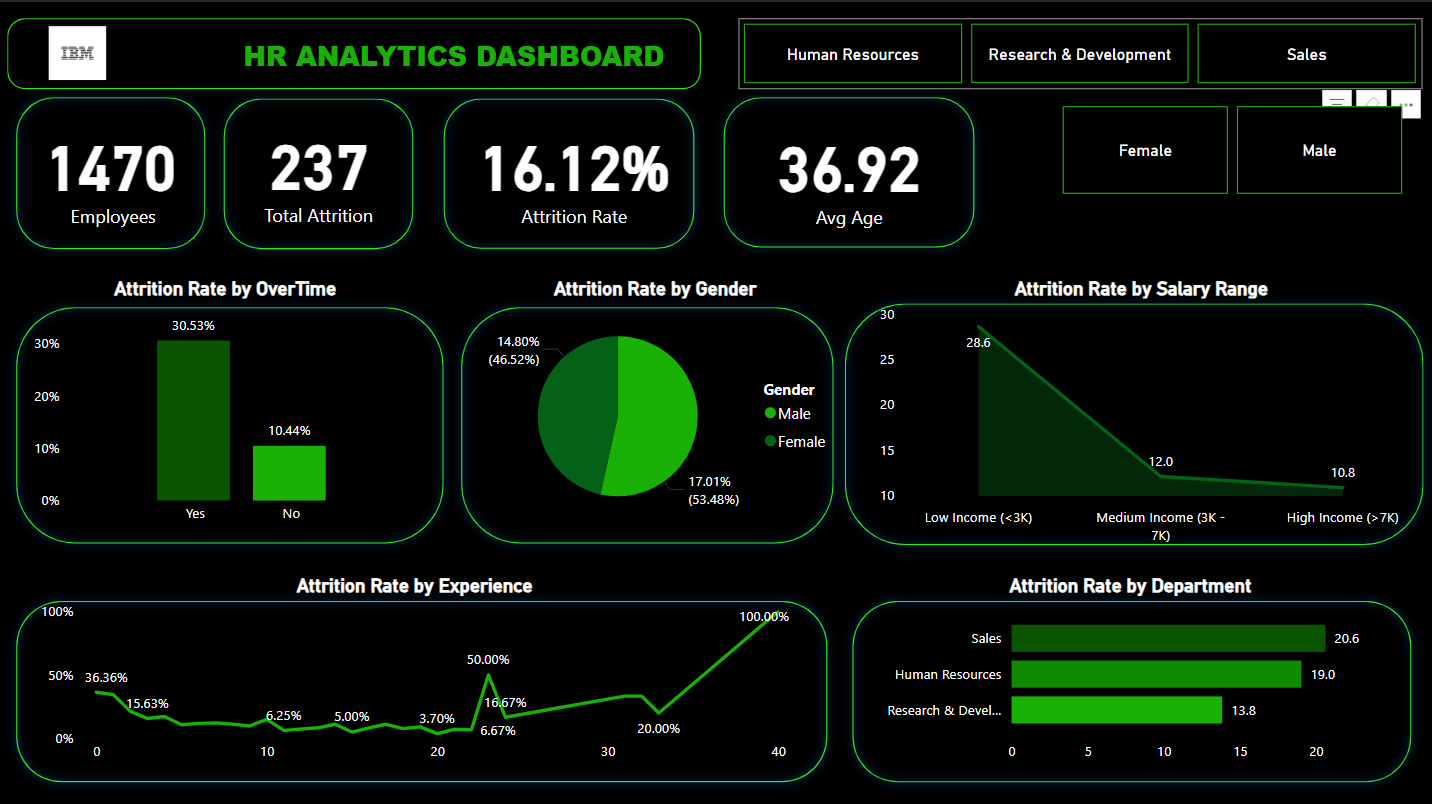

The dashboard page shown, as its layout file describes it:
{"tool":"powerbi","page":{"name":"Attrition Dashboard","canvas":[1280,720],"ordinal":0},"visuals":[{"type":"shape","box":[10.1,14.4,620.4,63.5],"z":0},{"type":"card","fields":{"Values":["hrcleaned.Total Employees"]},"box":[34.6,98.1,135.6,108.2],"z":1000},{"type":"shape","box":[10.1,76.5,184.7,151.5],"z":2000},{"type":"shape","box":[194.8,77.9,184.7,150],"z":3000},{"type":"shape","box":[391,77.9,239.5,150],"z":4000},{"type":"card","fields":{"Values":["hrcleaned.Total Attrition"]},"box":[222.2,89.5,129.8,124.1],"z":5000},{"type":"card","fields":{"Values":["hrcleaned.Attrition Rate"]},"box":[419.8,96.7,190.4,111.1],"z":6000},{"type":"barChart","title":" Attrition Rate by Department","fields":{"Category":["attrition_by_department.Department"],"Y":["Sum(attrition_by_department.Attrition_Rate)"]},"box":[773.3,509.3,473.2,176],"z":6001},{"type":"areaChart","title":" Attrition Rate by Salary Range","fields":{"Y":["Sum(attirition_by_salary.Attrition_Rate)"],"Category":["attirition_by_salary.Salary_Range"]},"box":[760.3,245.3,519.4,245.3],"z":6002},{"type":"lineChart","title":"Attrition Rate by Experience ","fields":{"Category":["hrcleaned.YearsAtCompany"],"Y":["hrcleaned.Attrition Rate"]},"box":[34.6,509.3,676.7,176],"z":6003},{"type":"pieChart","fields":{"Category":["hrcleaned.Gender"],"Y":["hrcleaned.Attrition Rate"]},"box":[419.8,245.3,334.7,229.4],"z":6004},{"type":"columnChart","fields":{"Category":["hrcleaned.OverTime"],"Y":["hrcleaned.Attrition Rate"]},"box":[28.9,245.3,350.6,229.4],"z":6005},{"type":"shape","box":[10.1,264,396.8,226.5],"z":6006},{"type":"shape","box":[406.9,264,347.7,226.5],"z":6007},{"type":"shape","box":[748,260,530.9,231],"z":6008},{"type":"shape","box":[10.1,525.2,738.7,177.5],"z":6009},{"type":"shape","box":[754.6,525.2,513.6,177.5],"z":6010},{"type":"card","fields":{"Values":["hrcleaned.Avg Age"]},"box":[683.9,88,152.9,129.8],"z":6011},{"type":"shape","box":[640.6,76.5,239.5,150],"z":6012},{"type":"advancedSlicerVisual","fields":{"Values":["hrcleaned.Department"]},"box":[660.8,14.4,608.8,63.5],"z":6013},{"type":"advancedSlicerVisual","fields":{"Values":["hrcleaned.Gender"]},"box":[944.8,88.3,312.9,88.3],"z":6014},{"type":"textbox","box":[194.8,26,425.6,51.9],"z":6015},{"type":"image","box":[28.9,18.8,108.2,57.7],"z":6016}]}

Visuals, with their boxes in screenshot pixels (x1, y1, x2, y2), scaled from the page's 1280x720 canvas onto the 1432x804 screenshot:
shape: left=11, top=16, right=705, bottom=87
card - hrcleaned.Total Employees: left=39, top=110, right=190, bottom=230
shape: left=11, top=85, right=218, bottom=255
shape: left=218, top=87, right=425, bottom=254
shape: left=437, top=87, right=705, bottom=254
card - hrcleaned.Total Attrition: left=249, top=100, right=394, bottom=239
card - hrcleaned.Attrition Rate: left=470, top=108, right=683, bottom=232
" Attrition Rate by Department" barChart: left=865, top=569, right=1395, bottom=765
" Attrition Rate by Salary Range" areaChart: left=851, top=274, right=1431, bottom=548
"Attrition Rate by Experience " lineChart: left=39, top=569, right=796, bottom=765
pieChart - hrcleaned.Gender x hrcleaned.Attrition Rate: left=470, top=274, right=844, bottom=530
columnChart - hrcleaned.OverTime x hrcleaned.Attrition Rate: left=32, top=274, right=425, bottom=530
shape: left=11, top=295, right=455, bottom=548
shape: left=455, top=295, right=844, bottom=548
shape: left=837, top=290, right=1431, bottom=548
shape: left=11, top=586, right=838, bottom=785
shape: left=844, top=586, right=1419, bottom=785
card - hrcleaned.Avg Age: left=765, top=98, right=936, bottom=243
shape: left=717, top=85, right=985, bottom=253
advancedSlicerVisual - hrcleaned.Department: left=739, top=16, right=1420, bottom=87
advancedSlicerVisual - hrcleaned.Gender: left=1057, top=99, right=1407, bottom=197
textbox: left=218, top=29, right=694, bottom=87
image: left=32, top=21, right=153, bottom=85
